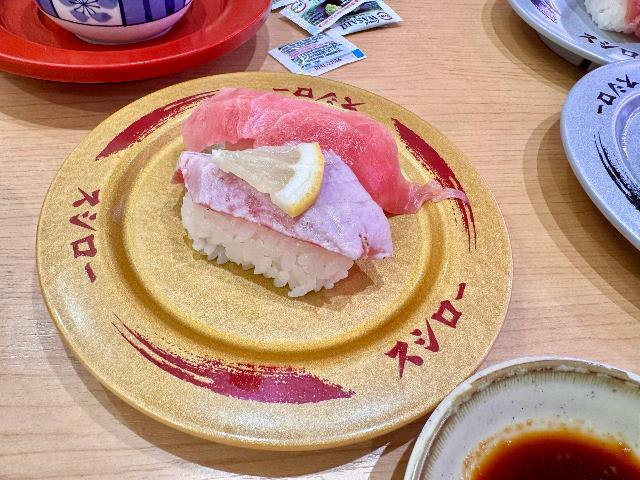jangold: (177, 256, 481, 435), (39, 125, 181, 452), (414, 108, 517, 307), (104, 73, 428, 105)
janwhite: (566, 55, 640, 255), (503, 11, 616, 87)
